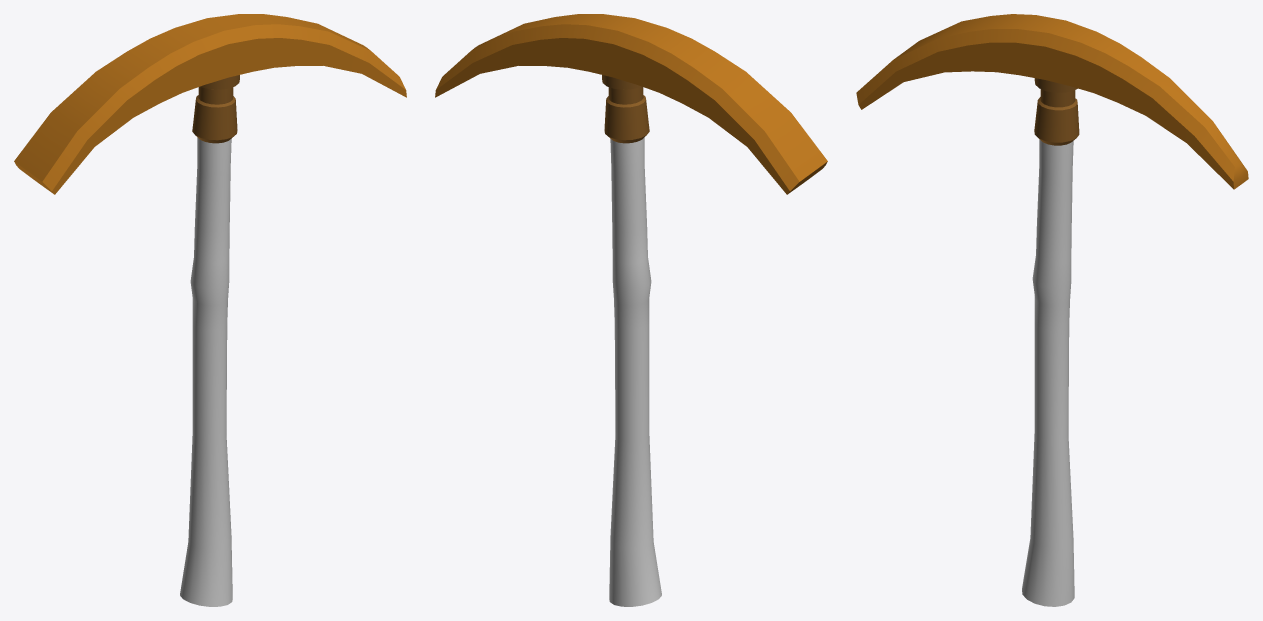
The model's file is pickaxe_bronze.glb.
3 renders of one model, left to right at view 1: azimuth 30°, elevation 25°; view 2: azimuth 150°, elevation 25°; view 3: azimuth 330°, elevation 25°, orthographic.
Visible parts, largest first — view 1: Pickaxe_Bronze; view 2: Pickaxe_Bronze; view 3: Pickaxe_Bronze.
Boxes of the visible parts, <box> form: Pickaxe_Bronze: <box>14,14,406,606</box>; Pickaxe_Bronze: <box>435,14,827,606</box>; Pickaxe_Bronze: <box>856,14,1248,606</box>.
Size of the model in its own units: 0.8129 by 1.2 by 0.1357.
